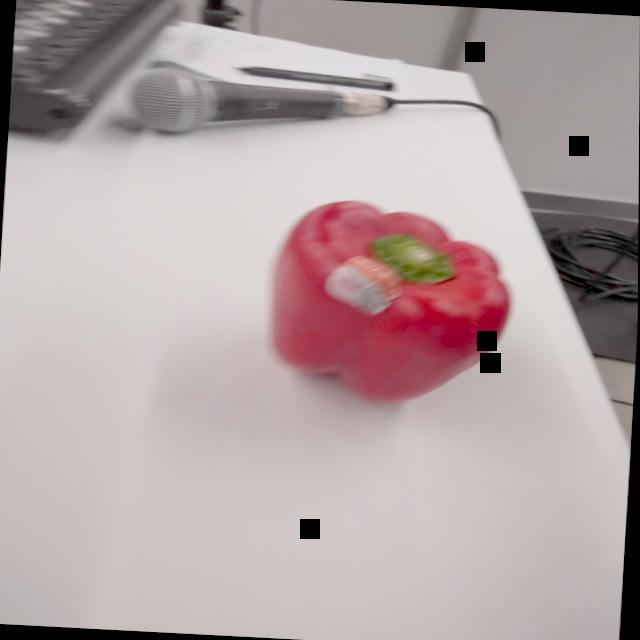paprika: (254, 193, 524, 416)
